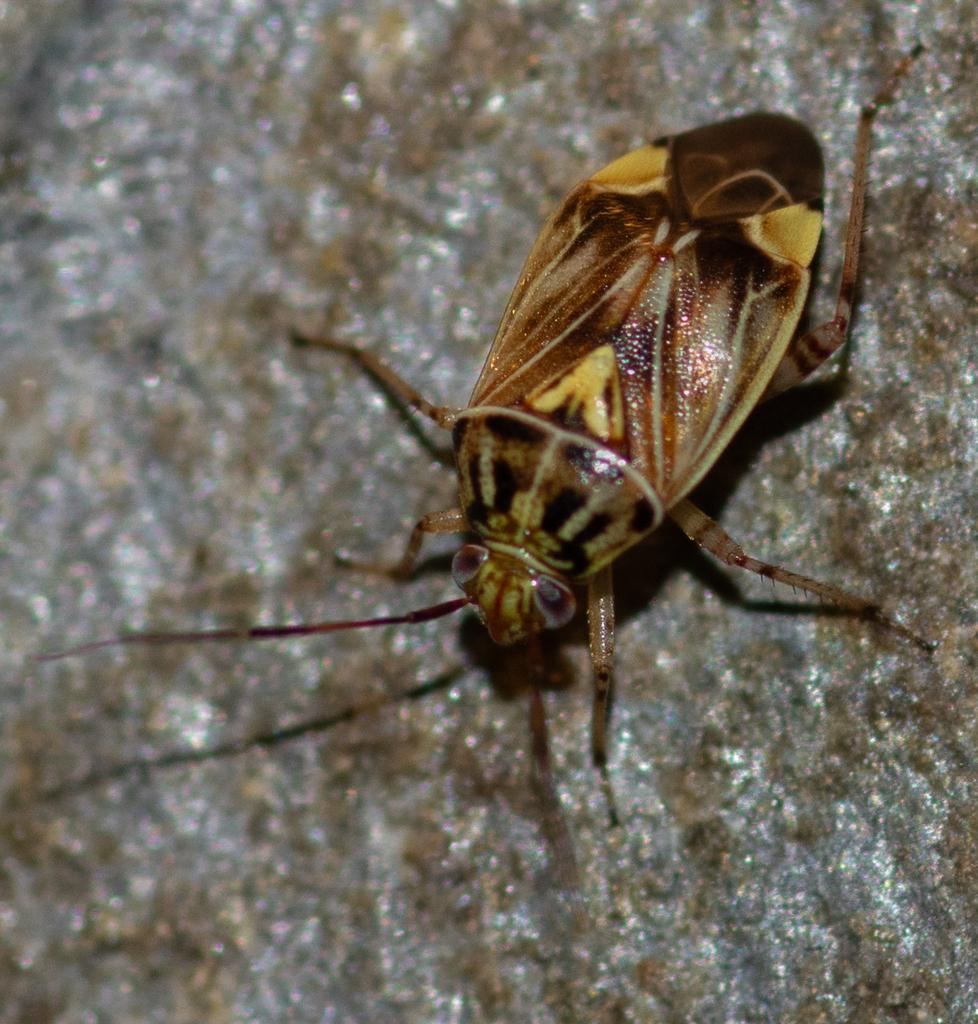plant_bugs: (0, 0, 978, 854)
